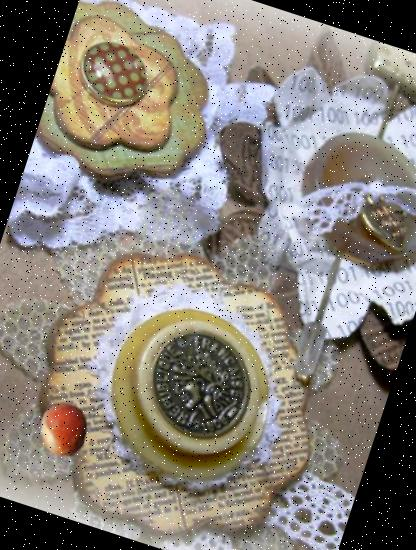Peach: (30, 396, 98, 464)
